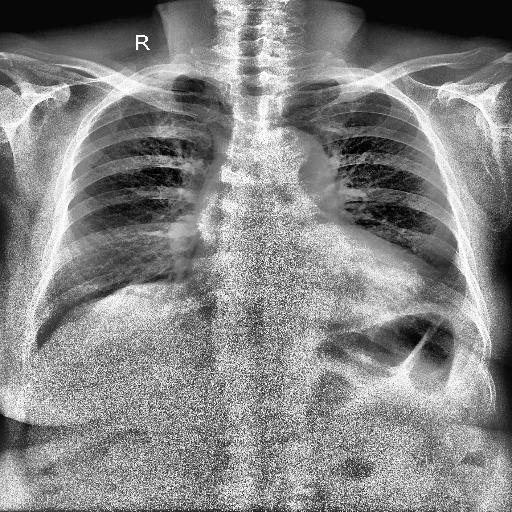0- Aortic enlargement: (265, 126, 337, 196), (254, 125, 333, 183), (262, 124, 334, 182)
3- Cardiomegaly: (189, 246, 436, 326), (182, 238, 450, 309), (192, 242, 445, 294)
9- Other lesion: (78, 274, 136, 313)
